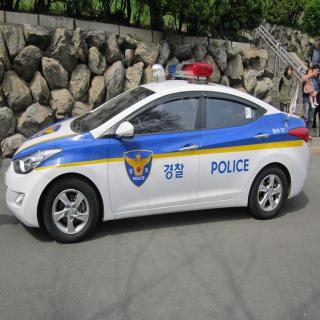Police_car: (5, 62, 311, 234)
